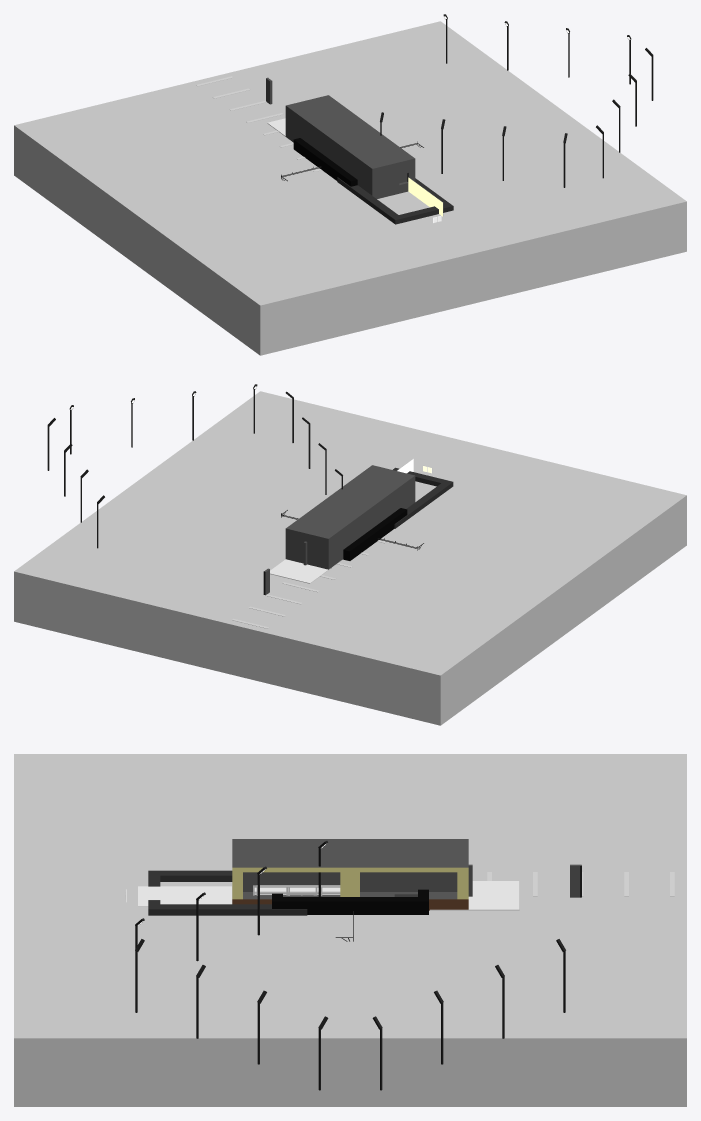
File: evos-fast-food-service-687524.glb
3 renders of one model, top to bottom at view 1: azimuth 30°, elevation 25°; view 2: azimuth 150°, elevation 25°; view 3: azimuth 270°, elevation 25°, orthographic. The views are drawn at different scales.
Parts seen in each view (by area): view 1: PropMesh; view 2: PropMesh; view 3: PropMesh.
Part boxes in pixels (left/top/right/bottom): PropMesh: left=14, top=14, right=686, bottom=355; PropMesh: left=14, top=384, right=686, bottom=725; PropMesh: left=14, top=754, right=686, bottom=1106.
Size of the model in its own units: 10.51 by 2.2 by 8.88.
23 materials, 4 textured.
